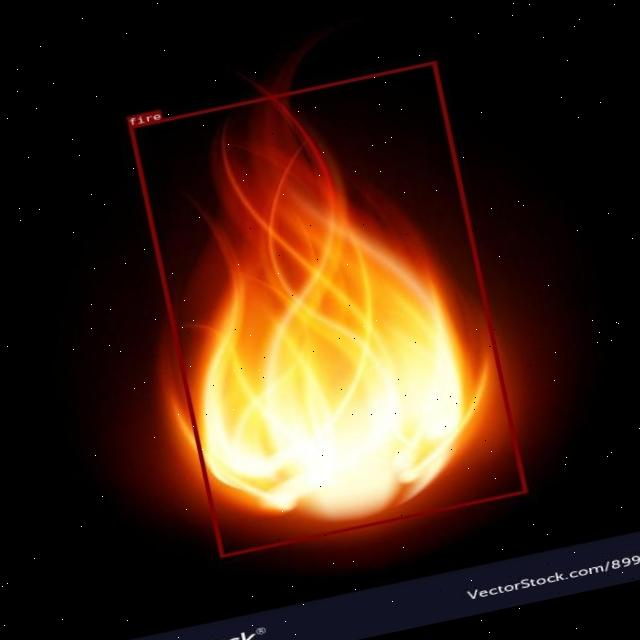fire: (128, 61, 526, 556)
